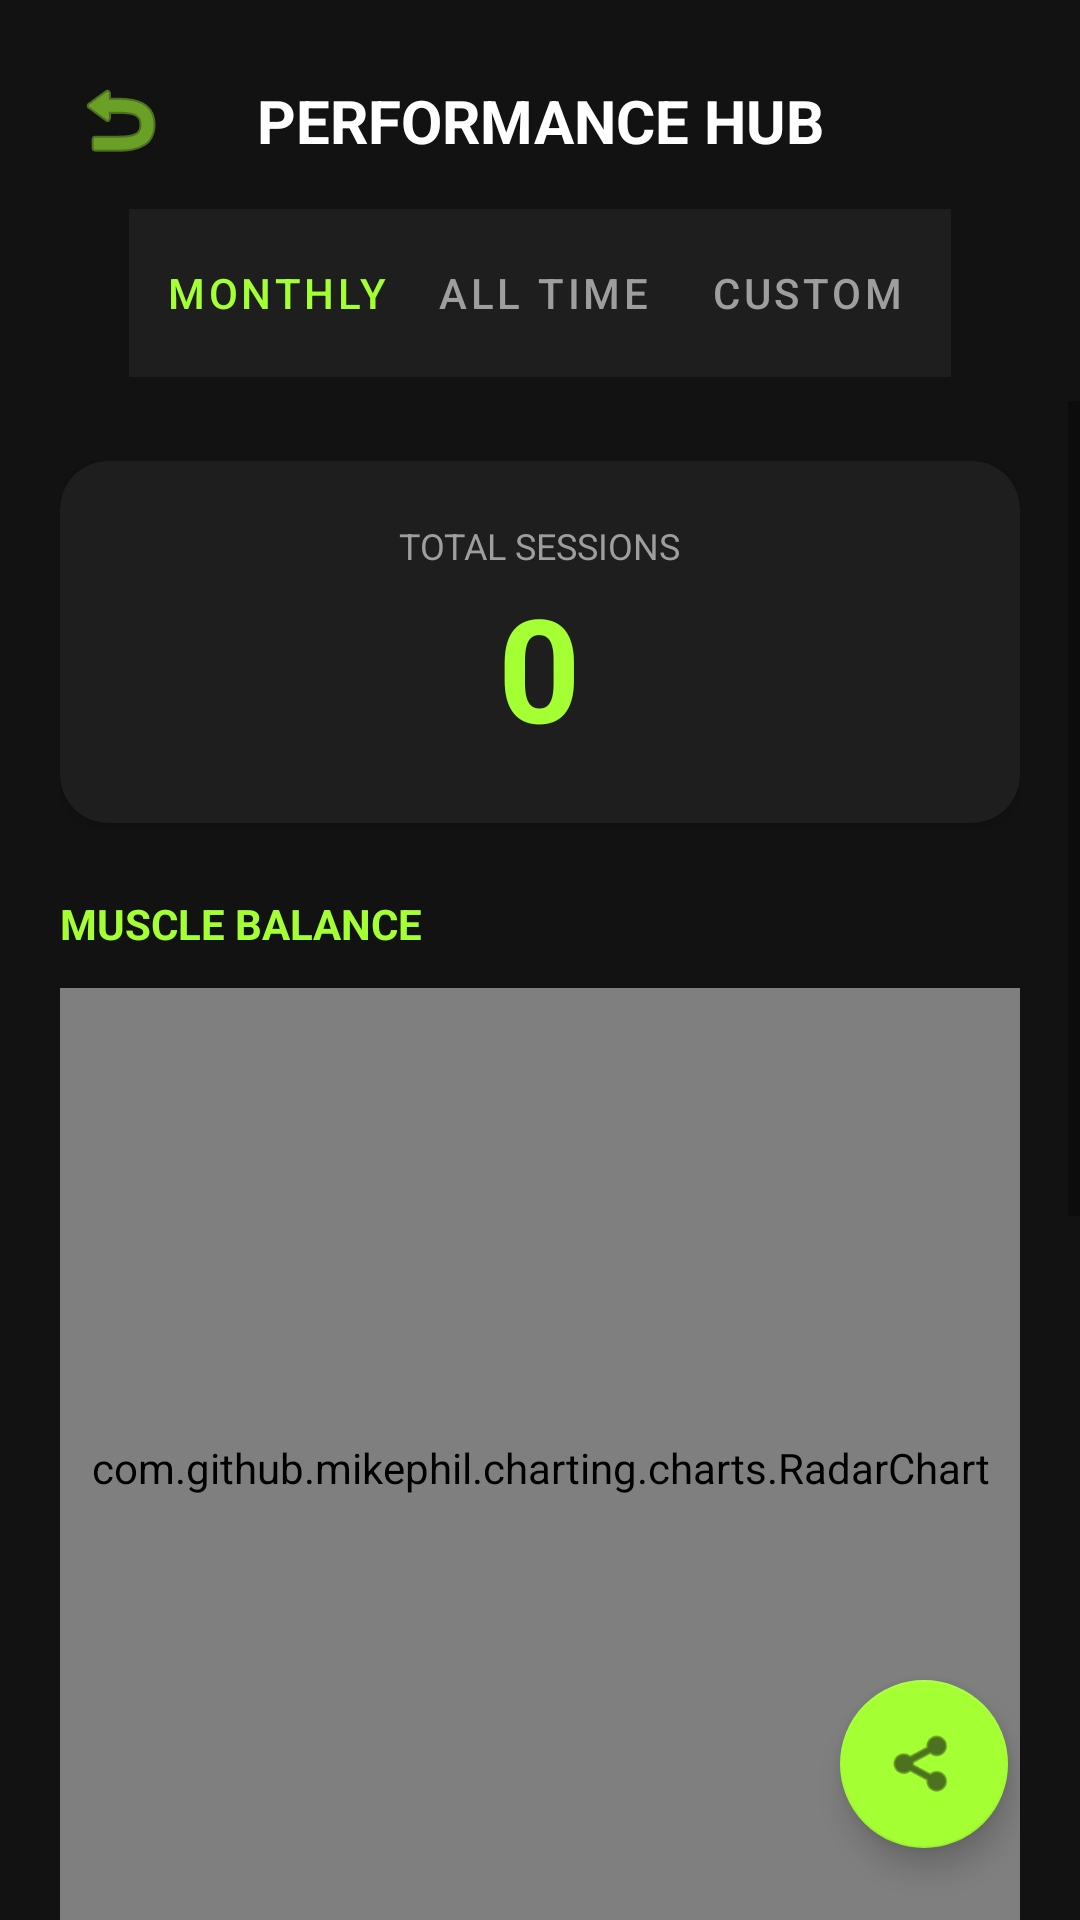

Locate icon controls on the screen. Image size 1080x1920, boxes as (x1, y1, x2, y2).
revert: (87, 89, 156, 152)
share: (840, 1680, 1008, 1848)
